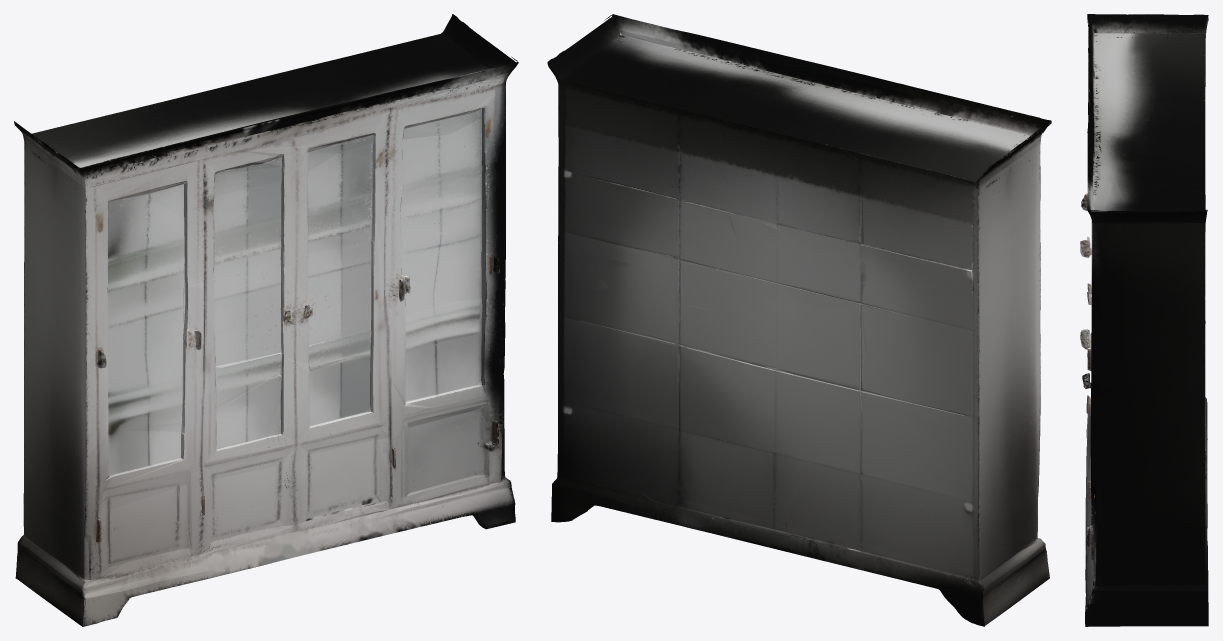
Rendered from cabinet-trellis.glb.
3 renders of one model, left to right at view 1: azimuth 30°, elevation 25°; view 2: azimuth 150°, elevation 25°; view 3: azimuth 270°, elevation 25°, orthographic. The views are drawn at different scales.
Parts seen in each view (by area): view 1: geometry_0; view 2: geometry_0; view 3: geometry_0.
Part boxes in pixels (x1=…): geometry_0: x1=14, y1=14, x2=518, y2=626; geometry_0: x1=547, y1=14, x2=1051, y2=626; geometry_0: x1=1080, y1=14, x2=1208, y2=626.
Bounding box in the file's own units: 1 × 1 × 0.2776.
Materials: 1 (1 with a texture image).
